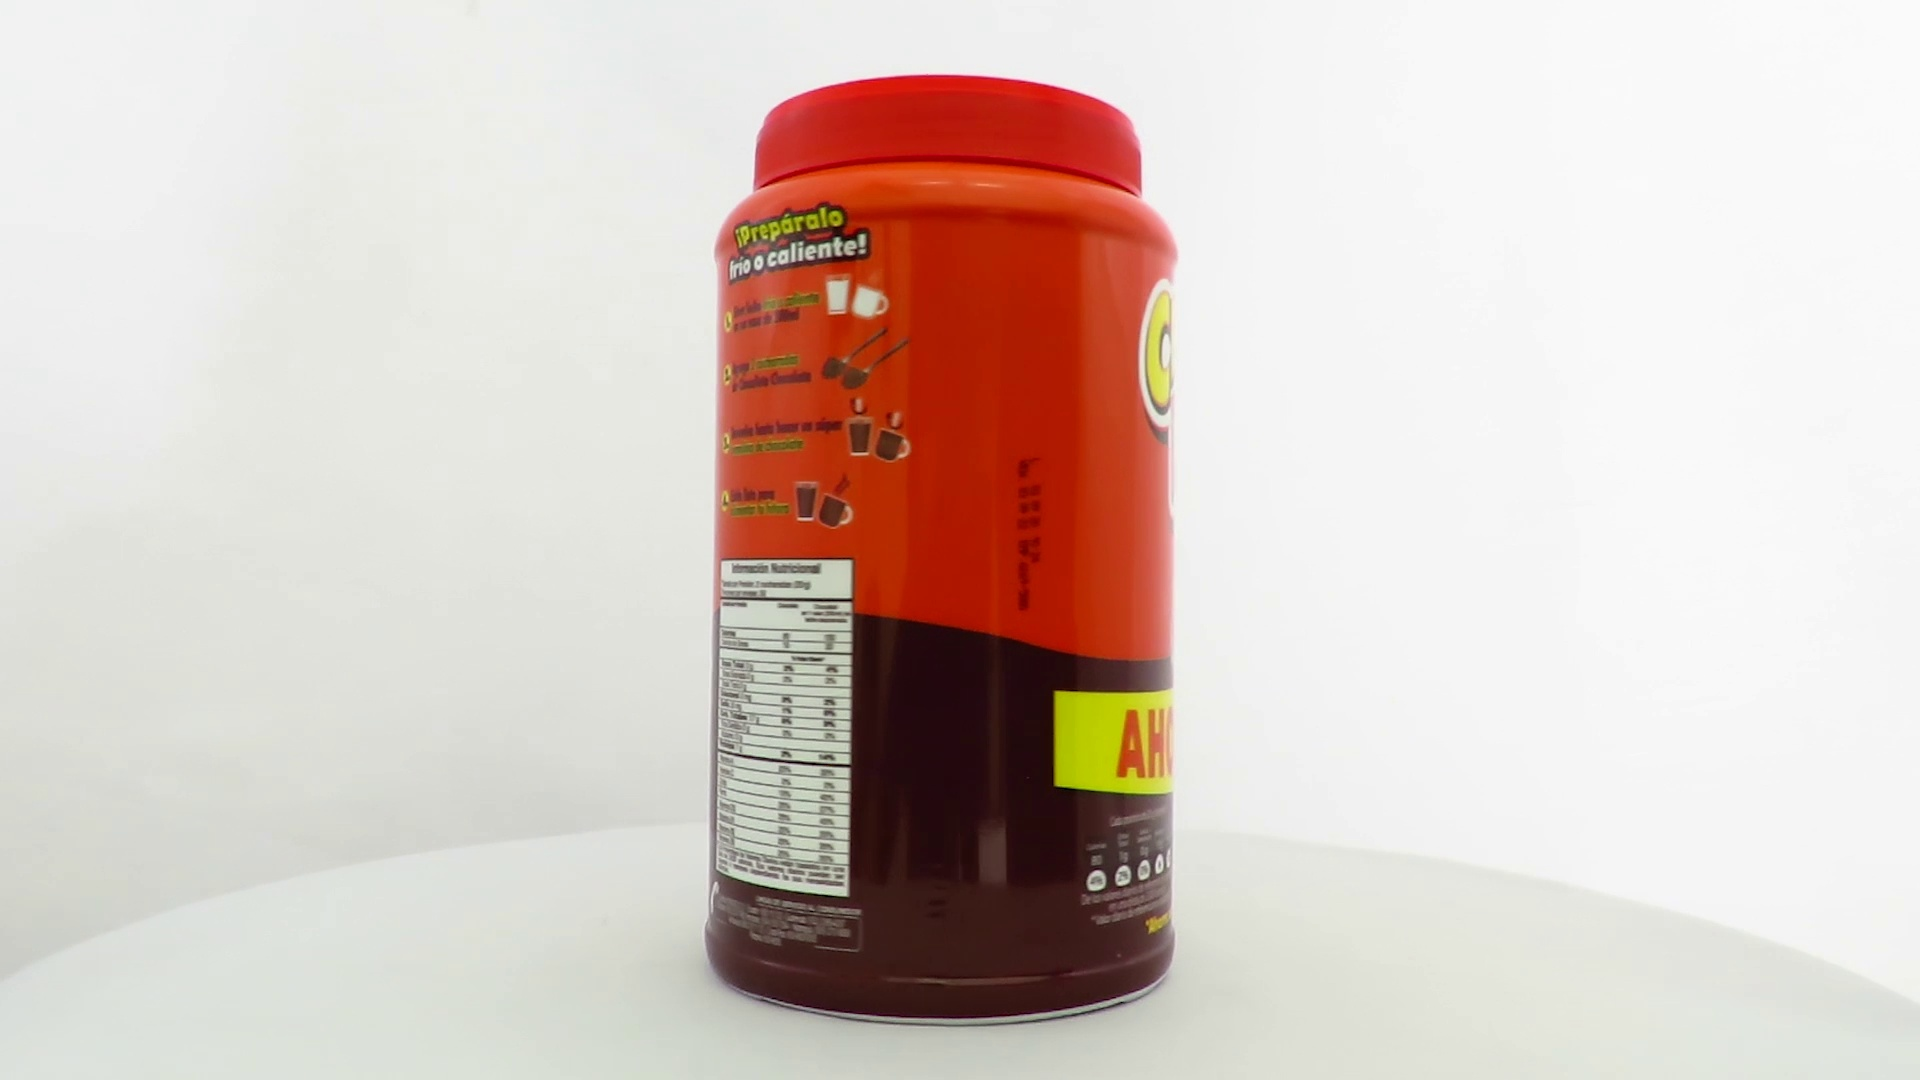COL0170103TRR00100: (699, 69, 1184, 1033)
